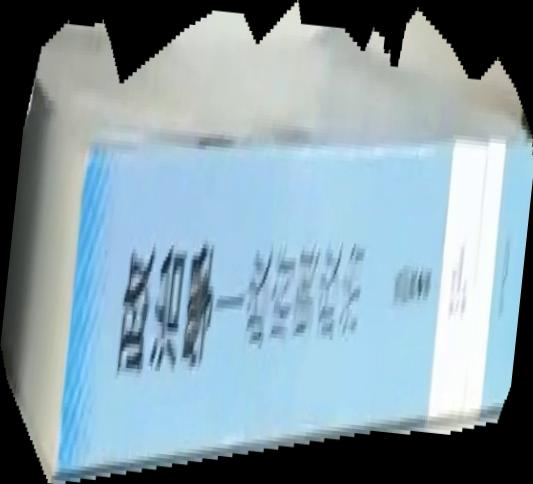flat: (1, 1, 533, 484)
